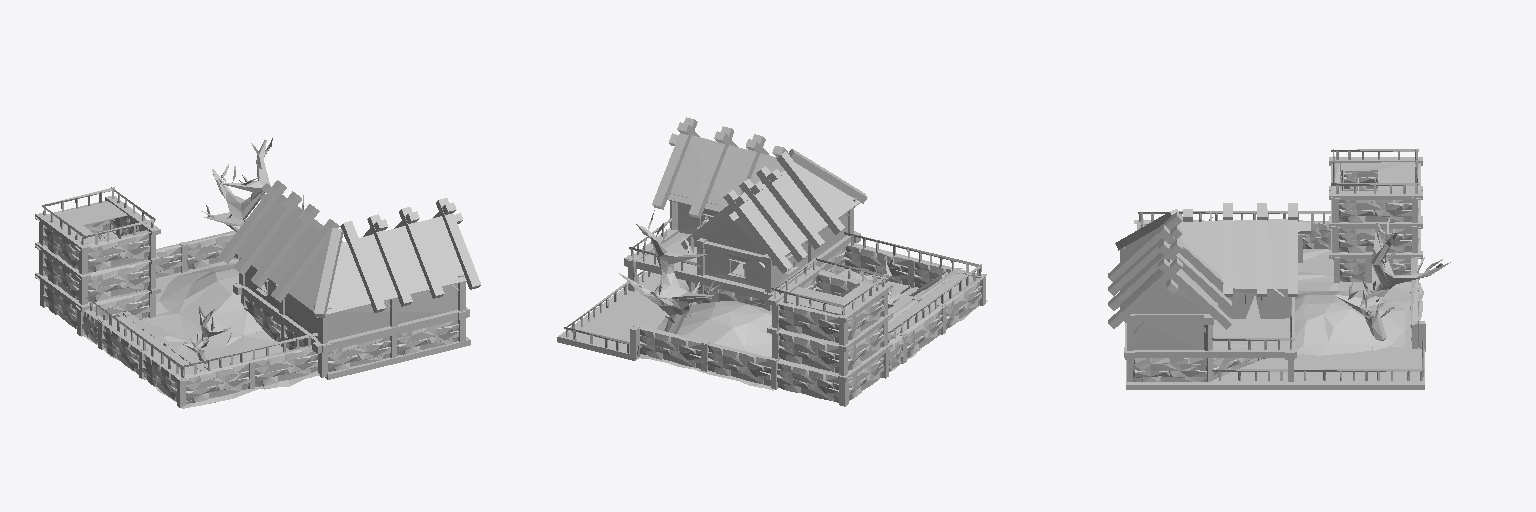
Rendered from scene_simple_2.obj.
3 views of the same model, side by side, from view 1: azimuth 30°, elevation 25°; view 2: azimuth 150°, elevation 25°; view 3: azimuth 270°, elevation 25° (orthographic).
Parts seen in each view (by area): view 1: Cube, Cube.001_Cube.003, Cube.001_Cube.000, Cube.001_Cube.001; view 2: Cube, Cube.001_Cube.003, Cube.001_Cube.000; view 3: Cube, Cube.001_Cube.003, Cube.001_Cube.000.
Boxes of the visible parts, x1=… form: Cube: x1=35, y1=180, x2=480, y2=407; Cube.001_Cube.003: x1=83, y1=259, x2=319, y2=408; Cube.001_Cube.000: x1=202, y1=138, x2=314, y2=231; Cube.001_Cube.001: x1=183, y1=305, x2=238, y2=363; Cube: x1=557, y1=117, x2=986, y2=406; Cube.001_Cube.003: x1=637, y1=269, x2=987, y2=390; Cube.001_Cube.000: x1=619, y1=210, x2=721, y2=333; Cube: x1=1108, y1=149, x2=1425, y2=389; Cube.001_Cube.003: x1=1295, y1=249, x2=1423, y2=355; Cube.001_Cube.000: x1=1335, y1=218, x2=1450, y2=340.
Bounding box in the file's own units: 23.83 × 10.19 × 23.5.